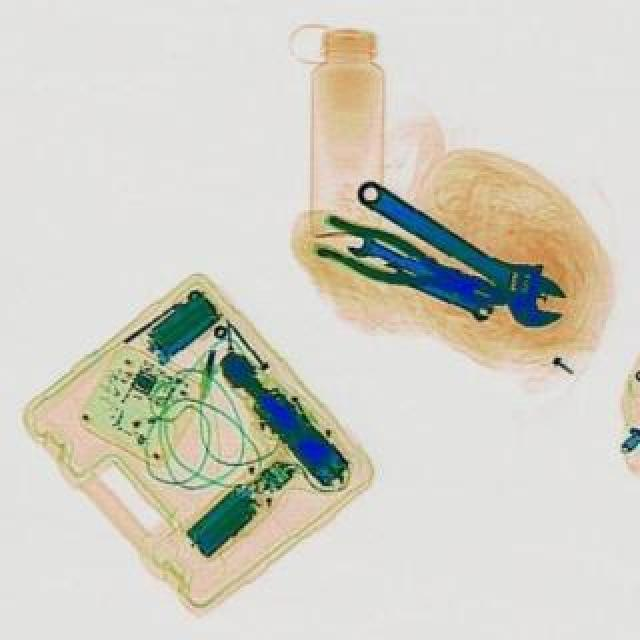scissors: (340, 162, 580, 344), (378, 260, 494, 330), (344, 234, 436, 288)
wrench: (310, 214, 514, 326)
